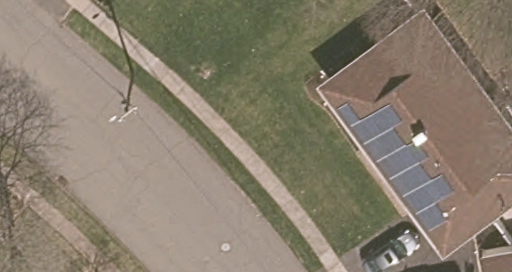DT: (106, 100, 139, 123)
